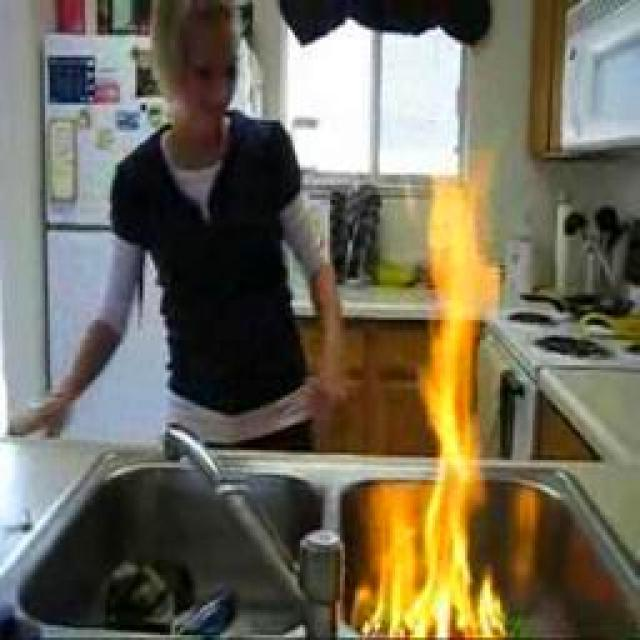Fire: (357, 180, 501, 634)
